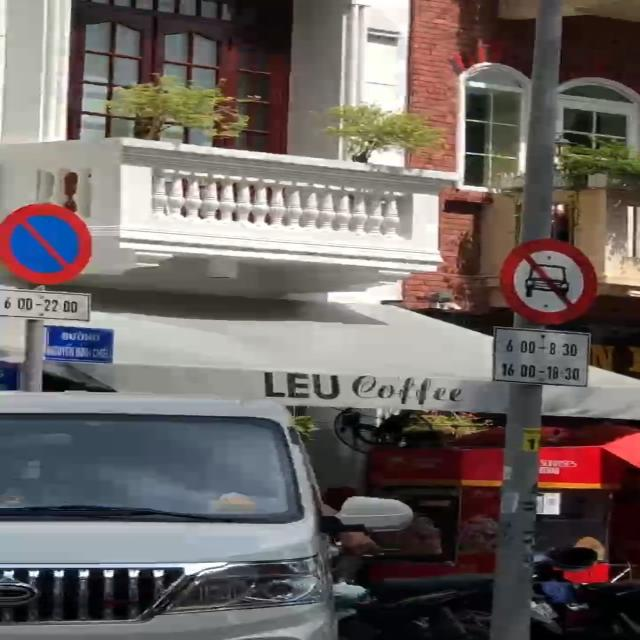Bien bao cam do xe: (0, 198, 100, 286)
Bien bao cam xe oto: (491, 233, 605, 329)
